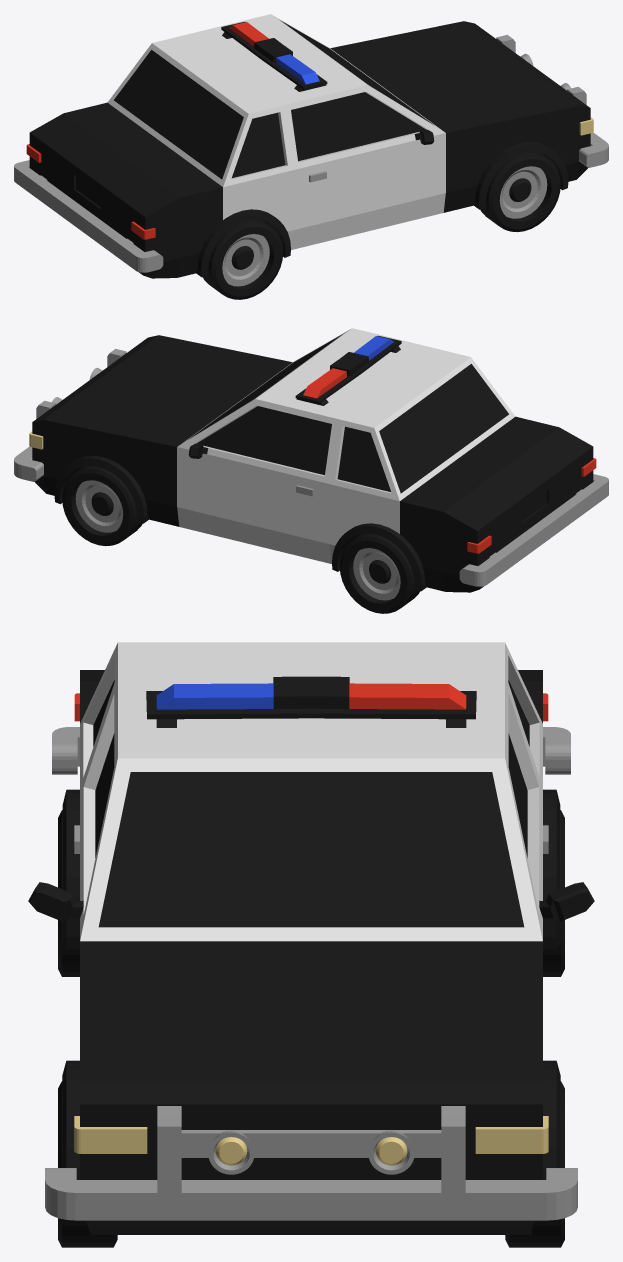
The model's file is Policecar_1_Finished.fbx.
3 renders of one model, top to bottom at view 1: azimuth 30°, elevation 25°; view 2: azimuth 150°, elevation 25°; view 3: azimuth 270°, elevation 25°, orthographic. The views are drawn at different scales.
Visible parts, largest first — view 1: Body, Wheel_RR, Wheel_FR; view 2: Body, Wheel_RL, Wheel_FL; view 3: Body, Wheel_FR, Wheel_FL, Wheel_RR, Wheel_RL.
Boxes of the visible parts, box(x1,y1,x2,y2) form: Body: box(14, 14, 608, 278); Wheel_RR: box(203, 219, 283, 299); Wheel_FR: box(480, 152, 560, 232); Body: box(14, 328, 608, 592); Wheel_RL: box(339, 533, 419, 613); Wheel_FL: box(62, 466, 142, 546); Body: box(28, 642, 594, 1234); Wheel_FR: box(58, 1081, 117, 1247); Wheel_FL: box(505, 1081, 564, 1247); Wheel_RR: box(58, 810, 79, 976); Wheel_RL: box(543, 810, 564, 976).
Size of the model in its own units: 220 by 424 by 158.
